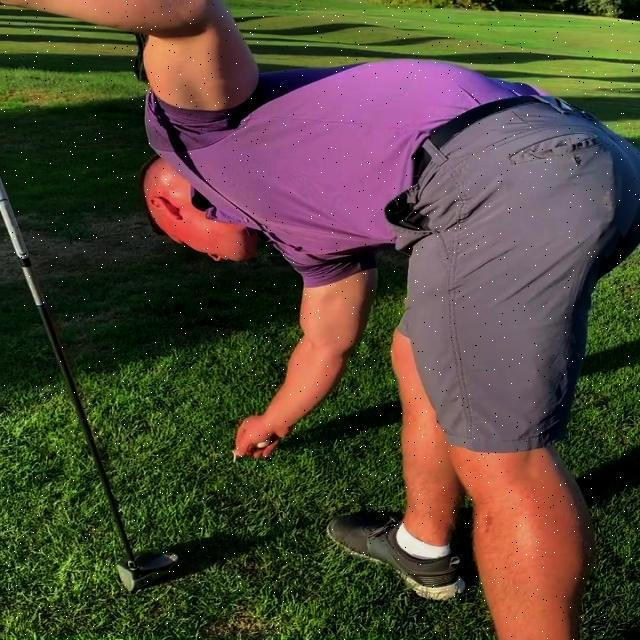ClubHead: (114, 550, 183, 594)
